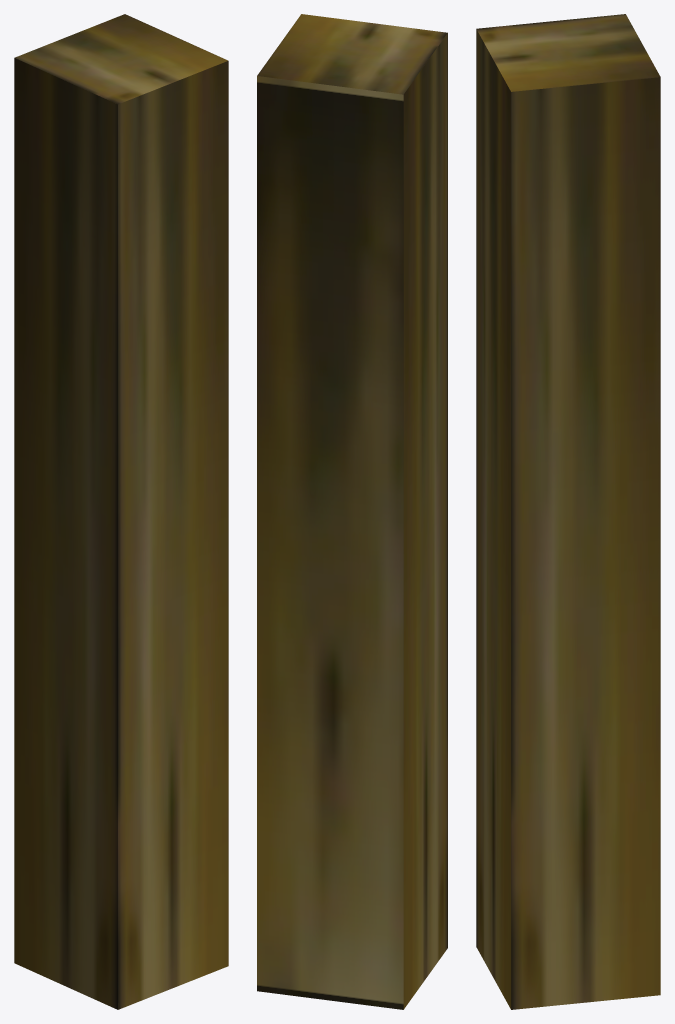
Rendered from TheOctagon_Floor_0_Col_1.gltf.
The picture shows the model from 3 angles, left to right: view 1: azimuth 30°, elevation 25°; view 2: azimuth 150°, elevation 25°; view 3: azimuth 270°, elevation 25°; orthographic projection.
Visible parts, largest first — view 1: TheOctagon_Floor_0_Col_1; view 2: TheOctagon_Floor_0_Col_1; view 3: TheOctagon_Floor_0_Col_1.
Part boxes in pixels (left/top/right/bottom): TheOctagon_Floor_0_Col_1: left=14, top=14, right=228, bottom=1009; TheOctagon_Floor_0_Col_1: left=257, top=14, right=447, bottom=1009; TheOctagon_Floor_0_Col_1: left=476, top=14, right=660, bottom=1009.
Bounding box in the file's own units: 1.56 × 8.56 × 1.56.
1 material, 1 textured.
